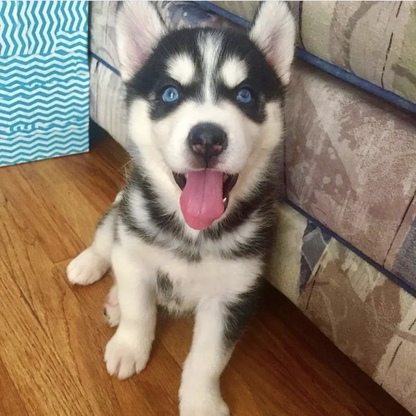husky: (61, 1, 305, 416)
